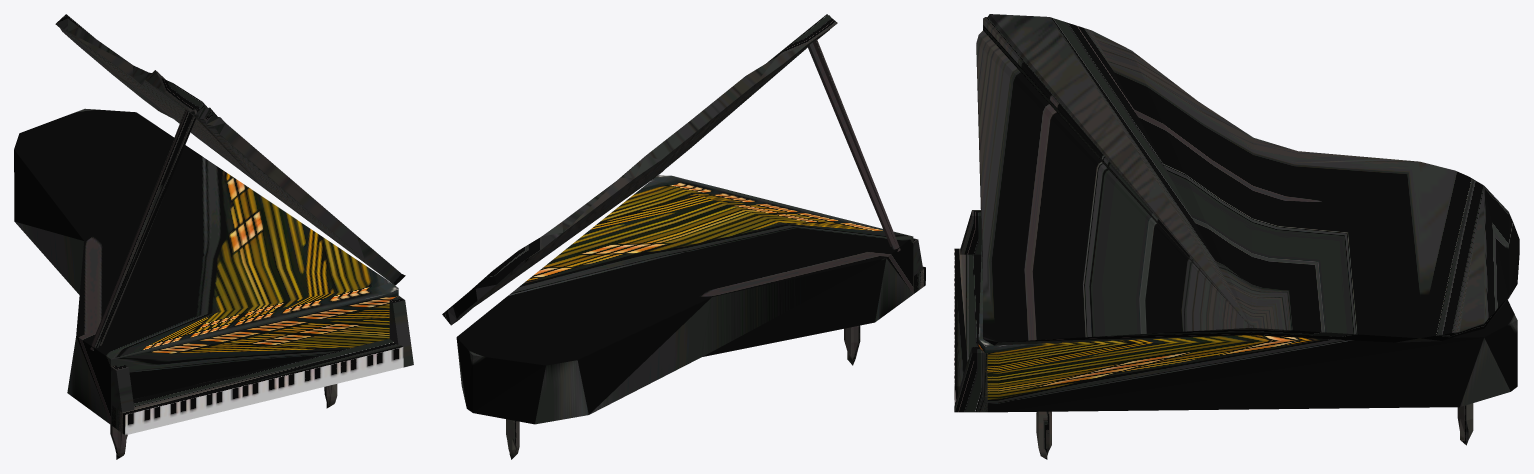
The model's file is Piano.glb.
3 renders of one model, left to right at view 1: azimuth 30°, elevation 25°; view 2: azimuth 150°, elevation 25°; view 3: azimuth 270°, elevation 25°, orthographic. The views are drawn at different scales.
Parts seen in each view (by area): view 1: Piano; view 2: Piano; view 3: Piano.
Boxes of the visible parts, x1,y1,x2,y2 form: Piano: [14, 14, 413, 459]; Piano: [442, 14, 925, 459]; Piano: [954, 14, 1519, 459].
Bounding box in the file's own units: 166 × 193 × 267.
1 material, 1 textured.
